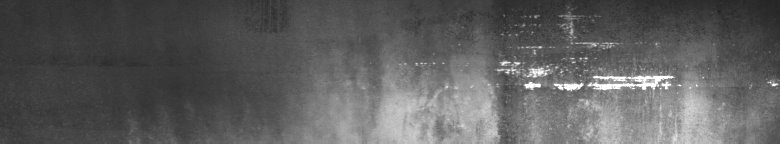kb: (404, 7, 681, 136)
